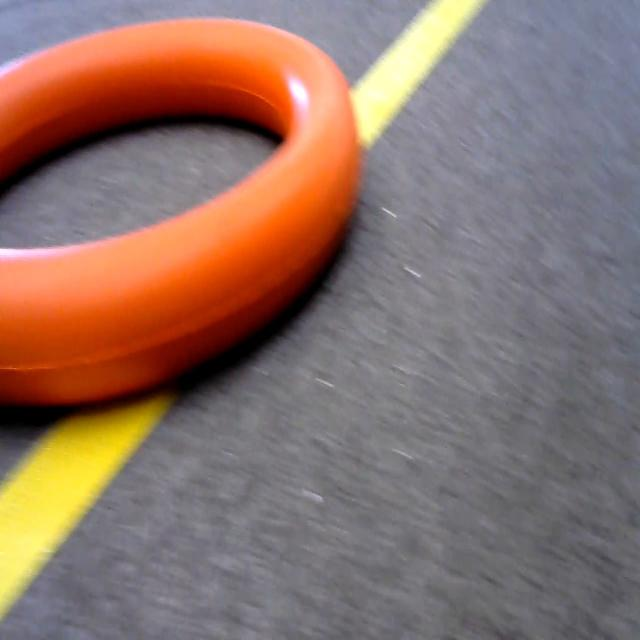note: (0, 17, 381, 416)
